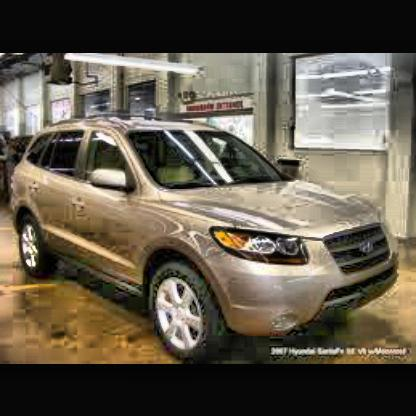Hyundai Santa Fe SUV 2012: (11, 105, 402, 360)
